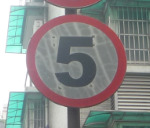speed_limit_5: (26, 15, 127, 107)
